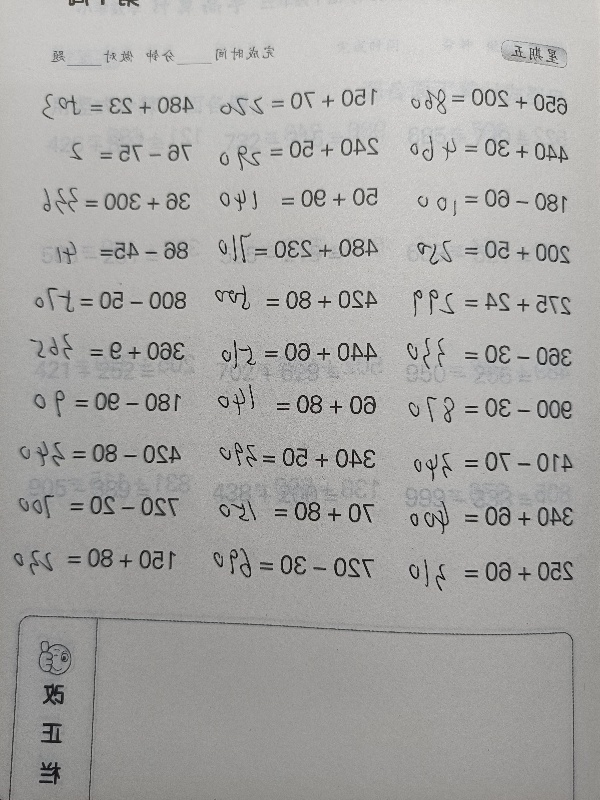equation: (207, 77, 385, 123), (203, 544, 383, 589), (206, 332, 386, 377), (206, 223, 386, 268), (400, 389, 580, 431), (10, 383, 190, 425), (398, 128, 578, 170), (22, 86, 202, 128), (396, 81, 576, 123), (11, 431, 191, 472), (397, 181, 577, 222), (20, 178, 200, 219), (205, 437, 385, 477), (16, 281, 196, 321), (207, 132, 387, 172), (403, 553, 583, 589), (5, 540, 185, 576), (203, 493, 383, 529), (8, 487, 188, 523), (402, 499, 582, 534), (402, 444, 582, 479), (205, 387, 385, 422), (401, 337, 581, 372), (13, 334, 193, 368), (400, 285, 580, 319), (206, 283, 386, 317), (17, 234, 197, 268), (399, 234, 579, 268), (207, 180, 387, 214), (21, 137, 201, 170)
